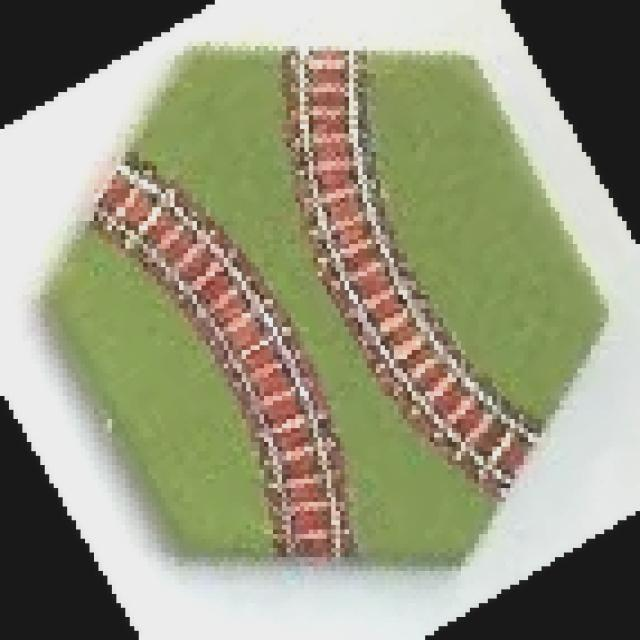6_2: (39, 43, 606, 570)
